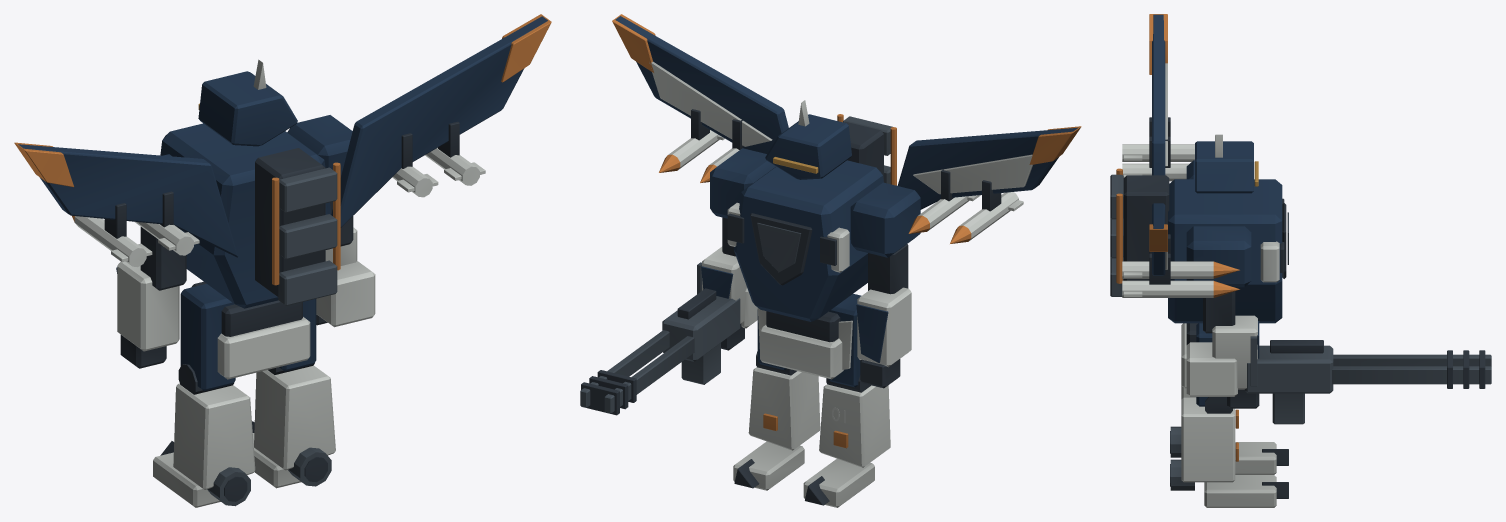
The model's file is hx7_kestrel.glb.
The picture shows the model from 3 angles, left to right: view 1: azimuth 30°, elevation 25°; view 2: azimuth 150°, elevation 25°; view 3: azimuth 270°, elevation 25°; orthographic projection. The views are drawn at different scales.
Visible parts, largest first — view 1: R_Swept_wing, L_Swept_wing, Glacis_chest, L_Nacelle, R_Nacelle, Wedge_helmet, QX_Battery_spine, L_Forearm, Hip_crossmember, L_Thigh, LR3_Capacitor_stock, R_Shoulder (+19 smaller); view 2: Glacis_chest, R_Swept_wing, L_Swept_wing, L_Nacelle, R_Nacelle, L_Shoulder, Wedge_helmet, Hip_crossmember, LR3_Linear_Rifle_Receiver, R_White_control_surface, L_White_control_surface, L_Forearm (+25 smaller); view 3: Glacis_chest, R_Nacelle, LR3_Linear_Rifle_Receiver, QX_Battery_spine, R_Shoulder, Wedge_helmet, LR3_Linear_rail.001, LR3_Capacitor_stock, L_Swept_wing, R_Toe, R_Forearm, LR3_Linear_rail (+15 smaller).
Boxes of the visible parts, x1=… form: R_Swept_wing: x1=331, y1=16, x2=547, y2=227; L_Swept_wing: x1=18, y1=144, x2=238, y2=257; Glacis_chest: x1=160, y1=123, x2=331, y2=308; L_Nacelle: x1=173, y1=383, x2=255, y2=489; R_Nacelle: x1=254, y1=365, x2=335, y2=470; Wedge_helmet: x1=198, y1=71, x2=297, y2=146; QX_Battery_spine: x1=255, y1=148, x2=325, y2=296; L_Forearm: x1=117, y1=261, x2=179, y2=351; Hip_crossmember: x1=217, y1=317, x2=310, y2=379; L_Thigh: x1=180, y1=283, x2=235, y2=390; LR3_Capacitor_stock: x1=316, y1=261, x2=375, y2=327; R_Shoulder: x1=287, y1=115, x2=352, y2=177; Glacis_chest: x1=733, y1=160, x2=883, y2=321; R_Swept_wing: x1=615, y1=16, x2=788, y2=153; L_Swept_wing: x1=897, y1=127, x2=1077, y2=209; L_Nacelle: x1=819, y1=384, x2=890, y2=467; R_Nacelle: x1=748, y1=367, x2=820, y2=450; L_Shoulder: x1=850, y1=182, x2=920, y2=257; Wedge_helmet: x1=765, y1=114, x2=851, y2=179; Hip_crossmember: x1=760, y1=325, x2=843, y2=379; LR3_Linear_Rifle_Receiver: x1=662, y1=296, x2=740, y2=361; R_White_control_surface: x1=649, y1=61, x2=772, y2=146; L_White_control_surface: x1=913, y1=154, x2=1032, y2=194; L_Forearm: x1=857, y1=287, x2=911, y2=367; Glacis_chest: x1=1168, y1=179, x2=1282, y2=323; R_Nacelle: x1=1181, y1=397, x2=1235, y2=482; LR3_Linear_Rifle_Receiver: x1=1244, y1=345, x2=1333, y2=393; QX_Battery_spine: x1=1123, y1=175, x2=1169, y2=280; R_Shoulder: x1=1186, y1=226, x2=1251, y2=287; Wedge_helmet: x1=1195, y1=141, x2=1253, y2=193; LR3_Linear_rail.001: x1=1332, y1=366, x2=1491, y2=384; LR3_Capacitor_stock: x1=1186, y1=342, x2=1237, y2=396; L_Swept_wing: x1=1152, y1=14, x2=1165, y2=175; R_Toe: x1=1204, y1=475, x2=1276, y2=507; R_Forearm: x1=1212, y1=315, x2=1257, y2=389; LR3_Linear_rail: x1=1333, y1=354, x2=1491, y2=366.
Bounding box in the file's own units: 1.9 × 1.49 × 1.42.
